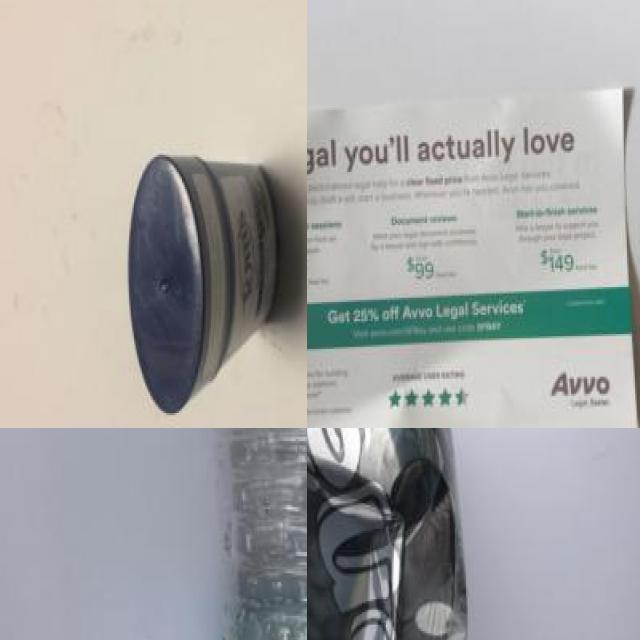paper: (307, 92, 640, 428)
plastic: (307, 428, 494, 640), (214, 428, 307, 640)
trash: (114, 136, 299, 410)
